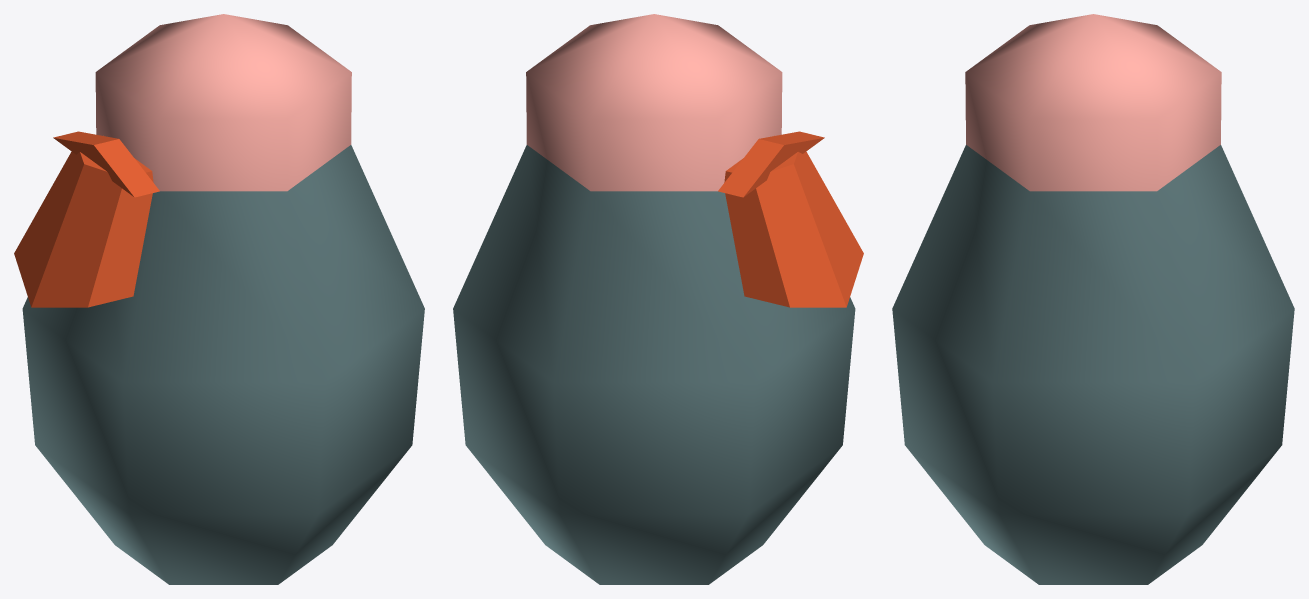
File: SK_Character.fbx
3 renders of one model, left to right at view 1: azimuth 30°, elevation 25°; view 2: azimuth 150°, elevation 25°; view 3: azimuth 270°, elevation 25°, orthographic.
Visible parts, largest first — view 1: Sphere; view 2: Sphere; view 3: Sphere.
Boxes of the visible parts, x1=… form: Sphere: x1=14, y1=14, x2=424, y2=584; Sphere: x1=453, y1=14, x2=863, y2=584; Sphere: x1=892, y1=14, x2=1294, y2=584.
Bounding box in the file's own units: 70.4 × 111 × 71.46.
